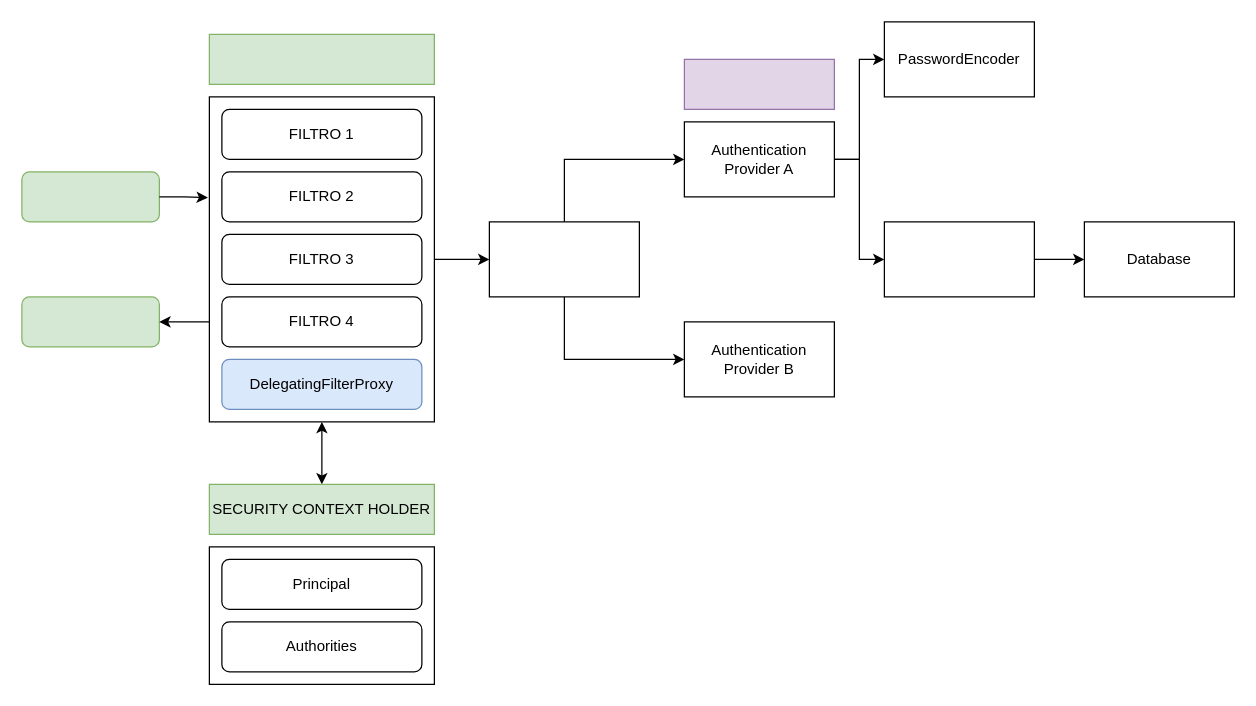
Image size: 1256x706. Some labels were removed from this diagram. Here are the shapes that lost their labels. From the top down, the centre of each, then its label:
the point at 321,58: SECURITY FILTER CHAIN
the point at 758,83: User from database
the point at 90,196: HTTP Request
the point at 563,259: Authentication Manager
the point at 958,259: UserDetailsService
the point at 90,321: HTTP Response
